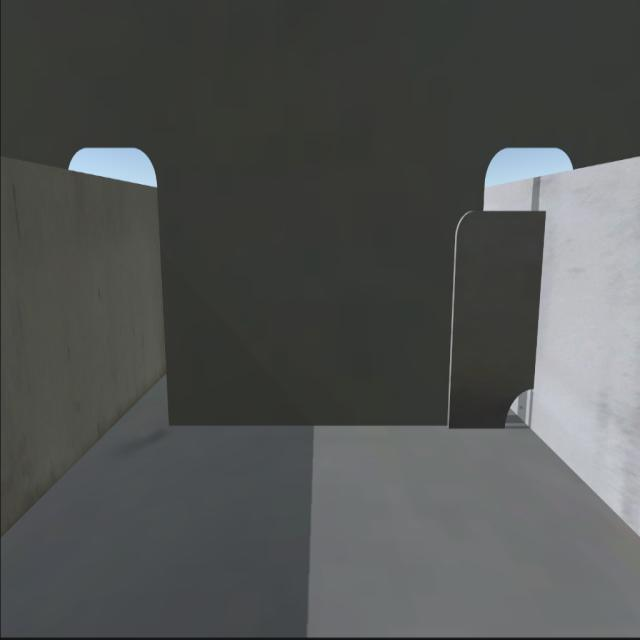fillet_hole: (499, 386, 532, 432)
fillet_yong_jeop_jang: (169, 421, 502, 435)
longi_yong_jeop_jang: (537, 218, 549, 378)
plate_CP05: (455, 213, 538, 424)
